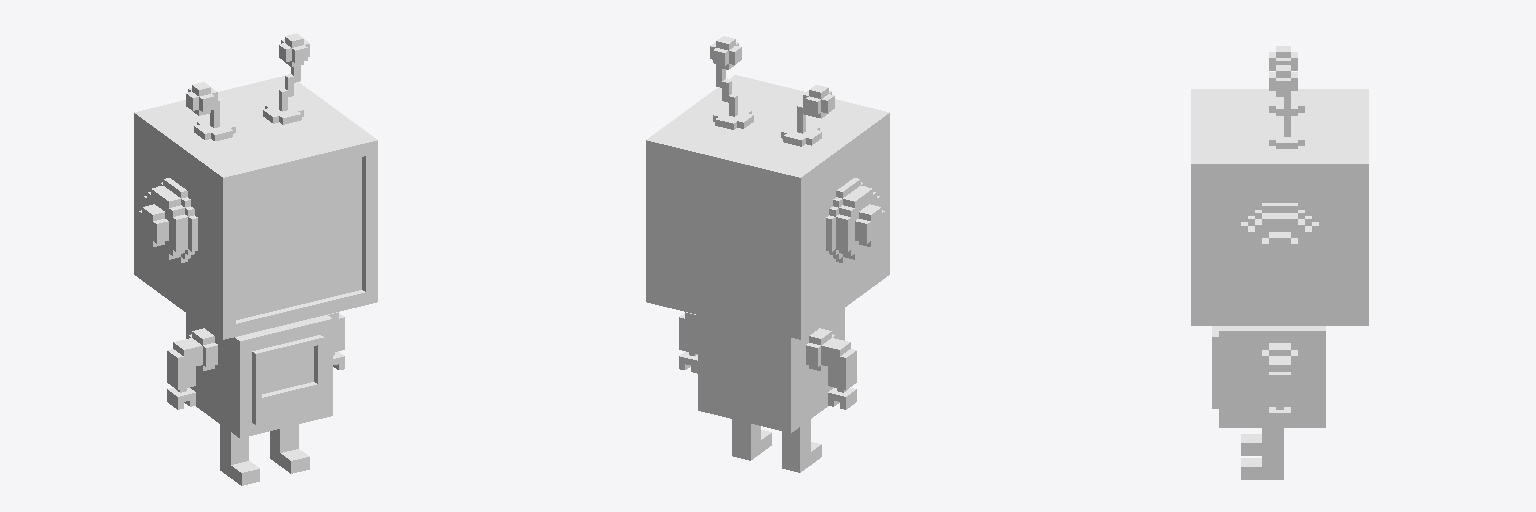
File: robo.obj
The picture shows the model from 3 angles: view 1: azimuth 30°, elevation 25°; view 2: azimuth 150°, elevation 25°; view 3: azimuth 270°, elevation 25°; orthographic projection.
Visible parts, largest first — view 1: object 1; view 2: object 1; view 3: object 1.
Boxes of the visible parts, x1,y1,x2,y2 form: object 1: [134, 33, 377, 485]; object 1: [646, 36, 889, 472]; object 1: [1191, 46, 1368, 479].
Bounding box in the file's own units: 3.5 × 6.4 × 2.5.